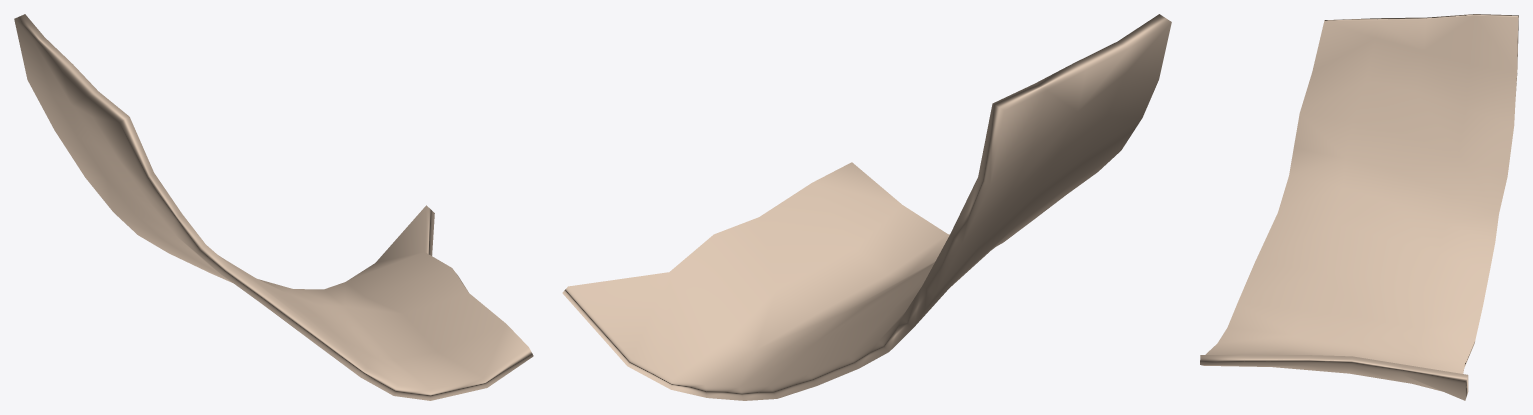
The picture shows the model from 3 angles, left to right: view 1: azimuth 30°, elevation 25°; view 2: azimuth 150°, elevation 25°; view 3: azimuth 270°, elevation 25°; orthographic projection. The views are drawn at different scales.
Visible parts, largest first — view 1: 右侧小腿横韧带; view 2: 右侧小腿横韧带; view 3: 右侧小腿横韧带.
Boxes of the visible parts, x1,y1,x2,y2 form: 右侧小腿横韧带: [14, 14, 533, 400]; 右侧小腿横韧带: [562, 14, 1171, 400]; 右侧小腿横韧带: [1200, 14, 1518, 400].
Bounding box in the file's own units: 0.055 × 0.0426 × 0.0465.
